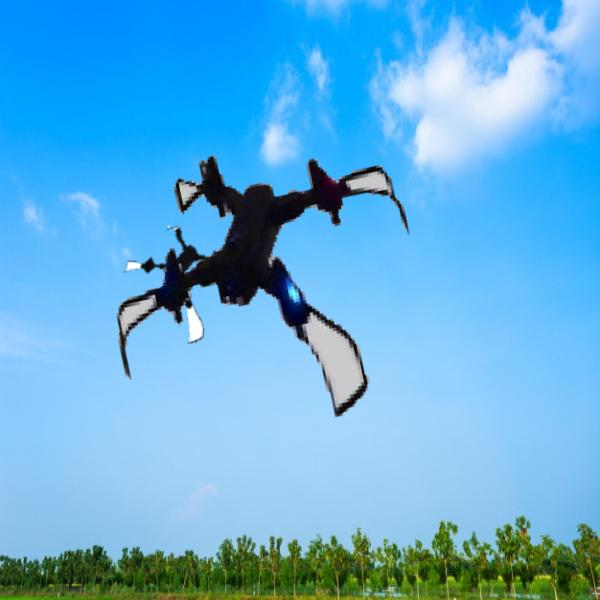drone: (100, 136, 429, 465), (118, 219, 248, 349)
